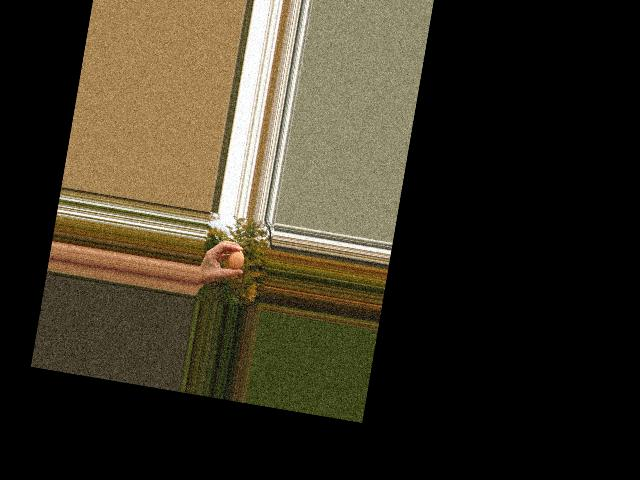egg: (227, 248, 245, 271)
